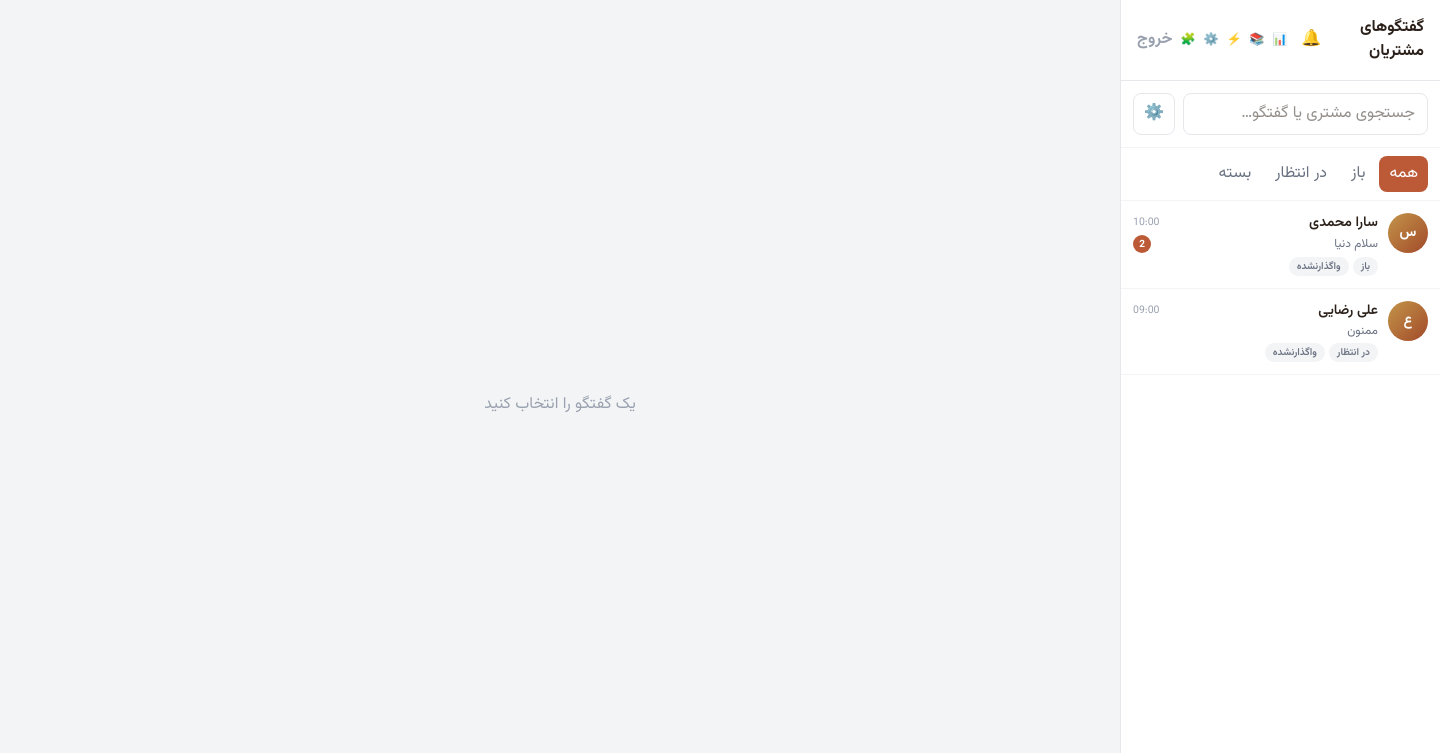
Test: Operator dashboard — customer conversations page › renders a product message card with brand, name and price
What coordinates should you click on to do the following:
click the text "سارا محمدی"
I would click on:
 (1344, 223)
Its box is [1309,213,1378,233].
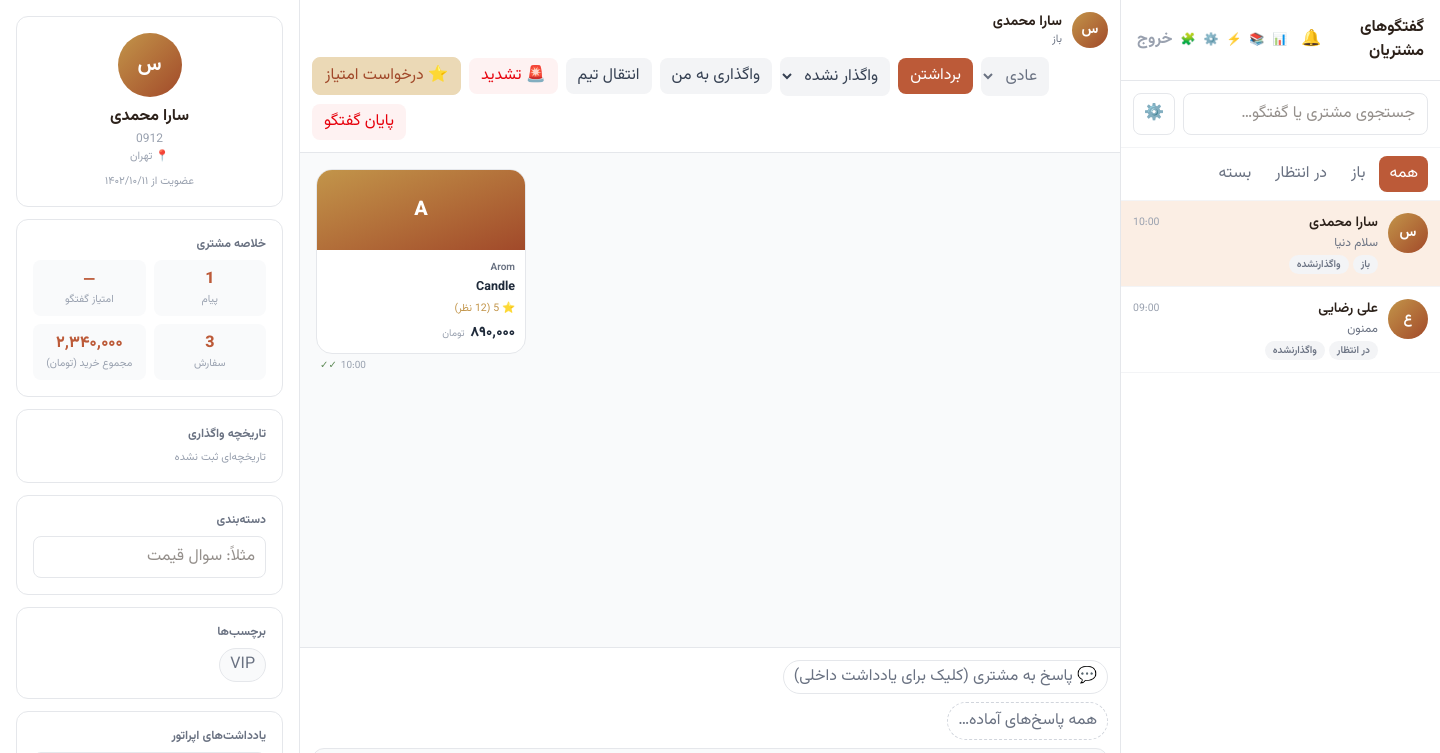
Now the text "Candle" is shown, box [476,276,515,296]
Now the text "Arom" is shown, box [490,260,515,274]
